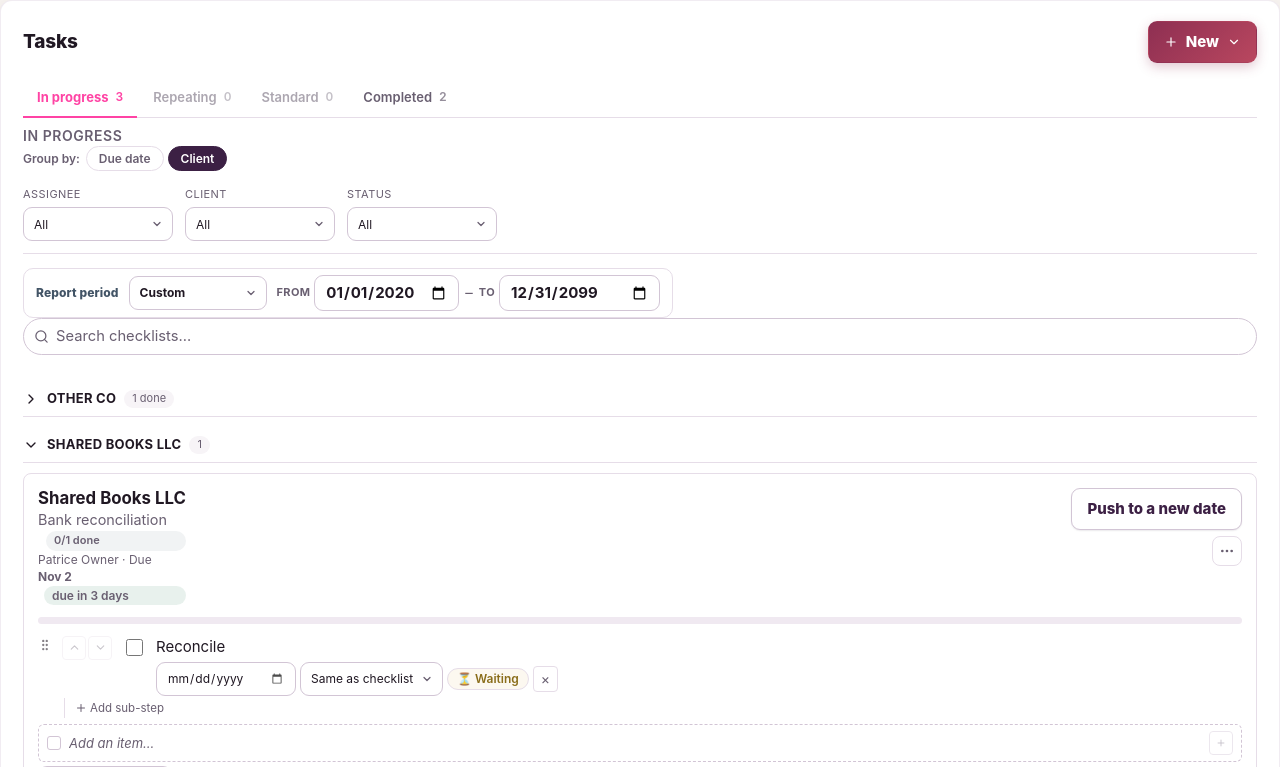
In progress grouped by client: completed checklists in a nested Completed group › keeps a client with ONLY completed checklists listed, but collapsed, its pill reading "N done"
Click the button with class "checklist-group-header" showing "Other Co 1 done". click: (82, 398)
box: [23,381,1257,417]
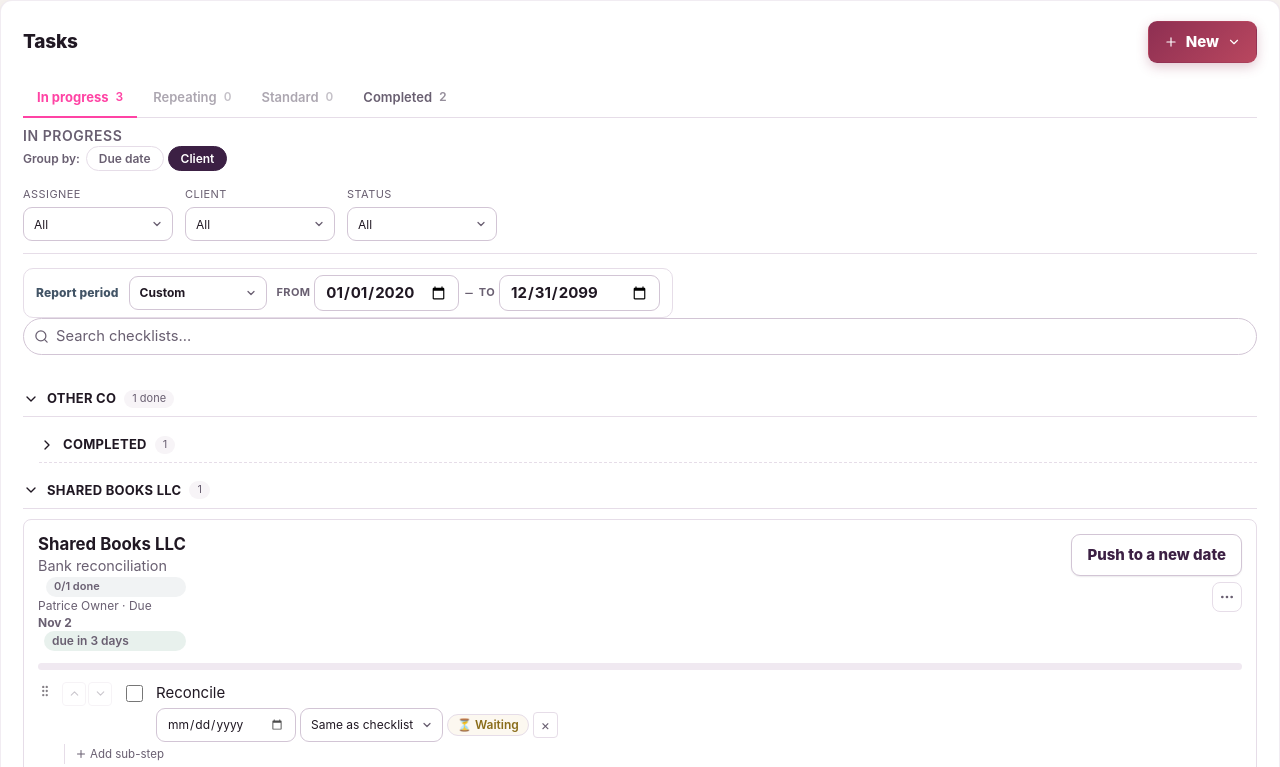
Expected: the element with class "checklist-group" showing "Completed 1" is shown, [23,427,1257,463]
